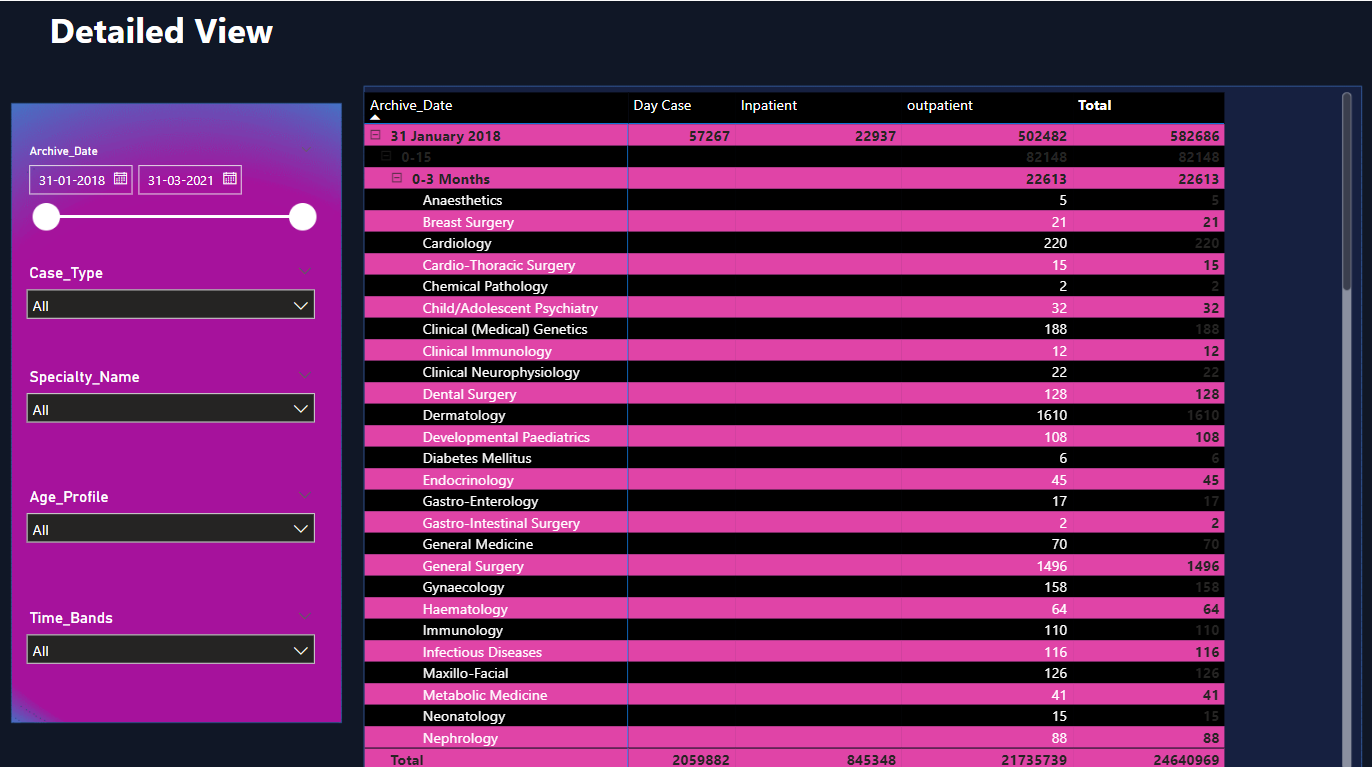

This screenshot's page, from the dashboard's own definition file:
{"tool":"powerbi","page":{"name":"Detail","canvas":[1280,720],"ordinal":1},"visuals":[{"type":"slicer","fields":{"Values":["All_data.Case_Type"]},"box":[16,240,288,80],"z":0},{"type":"slicer","fields":{"Values":["All_data.Specialty_Name"]},"box":[16,336,288,80],"z":1000},{"type":"slicer","fields":{"Values":["All_data.Archive_Date"]},"box":[16,128,288,112],"z":2000},{"type":"textbox","box":[0,0,304,64],"z":3000},{"type":"slicer","fields":{"Values":["All_data.Age_Profile"]},"box":[16,448,288,80],"z":4000},{"type":"slicer","fields":{"Values":["All_data.Time_Bands"]},"box":[16,560,288,80],"z":5000},{"type":"pivotTable","fields":{"Rows":["All_data.Archive_Date","All_data.Age_Profile","All_data.Time_Bands","All_data.Speciality_Name"],"Columns":["All_data.Case_Type"],"Values":["Sum(All_data.Total)"]},"box":[336,80,928,640],"z":6000}]}

Visuals, with their boxes in screenshot pixels (x1, y1, x2, y2), scaled from the page's 1280x720 canvas onto the 1372x767 screenshot:
slicer - All_data.Case_Type: Rect(17, 256, 326, 341)
slicer - All_data.Specialty_Name: Rect(17, 358, 326, 443)
slicer - All_data.Archive_Date: Rect(17, 136, 326, 256)
textbox: Rect(0, 0, 326, 68)
slicer - All_data.Age_Profile: Rect(17, 477, 326, 562)
slicer - All_data.Time_Bands: Rect(17, 597, 326, 682)
pivotTable - All_data.Archive_Date x All_data.Age_Profile: Rect(360, 85, 1355, 766)
